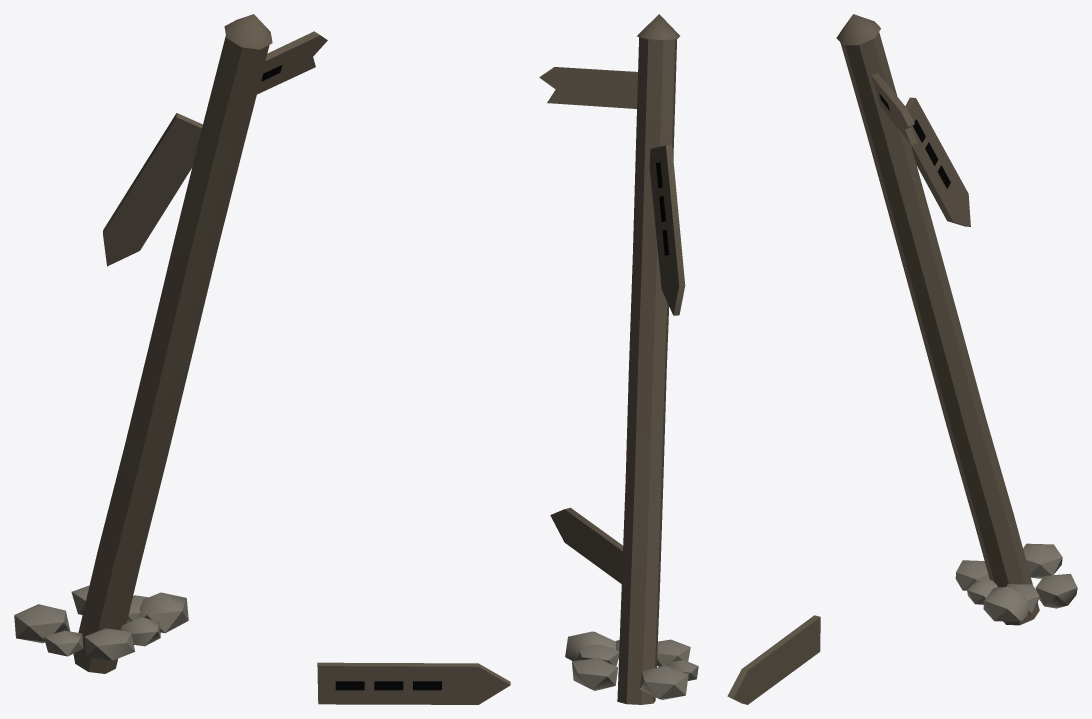
Rendered from wegweiser_kaputt.glb.
The picture shows the model from 3 angles, left to right: view 1: azimuth 30°, elevation 25°; view 2: azimuth 150°, elevation 25°; view 3: azimuth 270°, elevation 25°; orthographic projection. The views are drawn at different scales.
Visible parts, largest first — view 1: wegweiser_kaputt; view 2: wegweiser_kaputt; view 3: wegweiser_kaputt.
Part boxes in pixels (x1,y1,x2,y2): wegweiser_kaputt: (14,14,510,704); wegweiser_kaputt: (539,14,698,704); wegweiser_kaputt: (727,14,1077,704).
Bounding box in the file's own units: 1.17 × 2.41 × 1.21.
